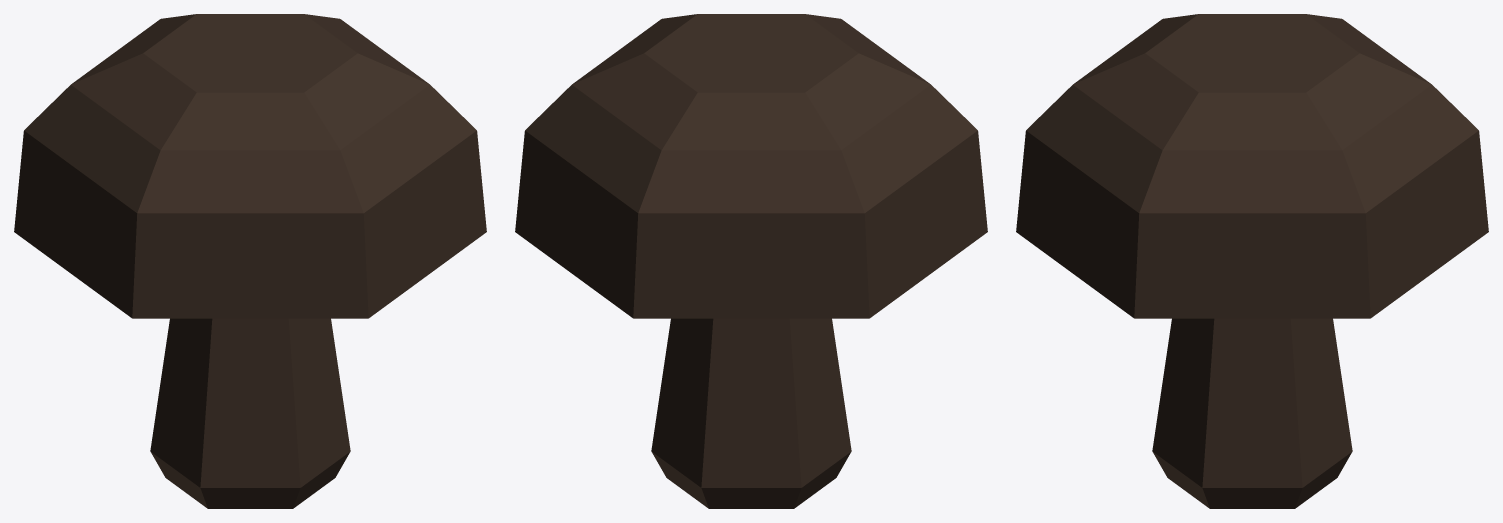
File: Mushroom.obj
3 views of the same model, side by side, from view 1: azimuth 30°, elevation 25°; view 2: azimuth 150°, elevation 25°; view 3: azimuth 270°, elevation 25° (orthographic).
Visible parts, largest first — view 1: Mushroom_Cylinder.044; view 2: Mushroom_Cylinder.044; view 3: Mushroom_Cylinder.044.
Part boxes in pixels (box(x1,y1,x2,y2)): Mushroom_Cylinder.044: box(14, 14, 486, 508); Mushroom_Cylinder.044: box(515, 14, 987, 508); Mushroom_Cylinder.044: box(1016, 14, 1488, 508).
Bounding box in the file's own units: 0.3581 × 0.4096 × 0.4135.
